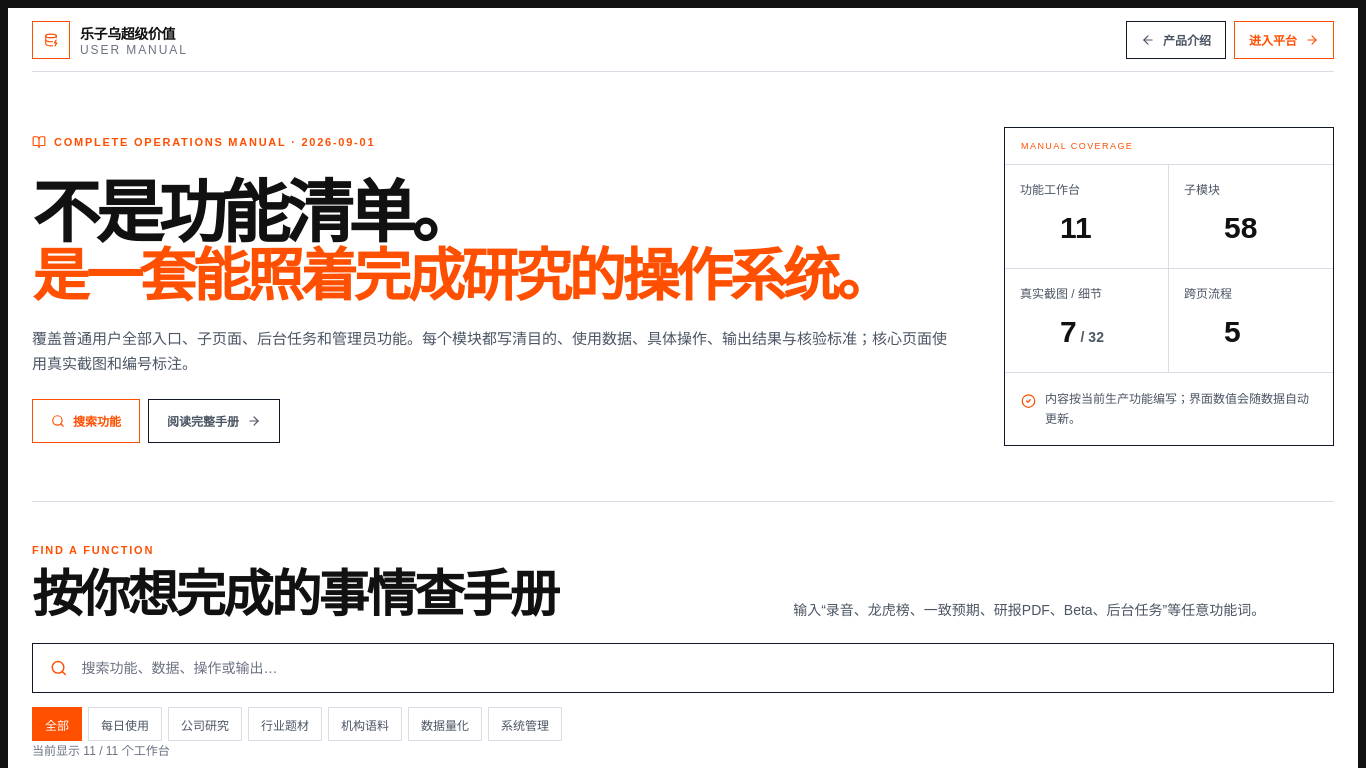
Test: UserGuidePage › filters the complete manual by a detailed function keyword
The width and height of the screenshot is (1366, 768).
Type "用户只能看到自己的任务" into the field named "搜索使用手册".
click(700, 668); type("用户只能看到自己的任务")  # box [68,644,1333,692]
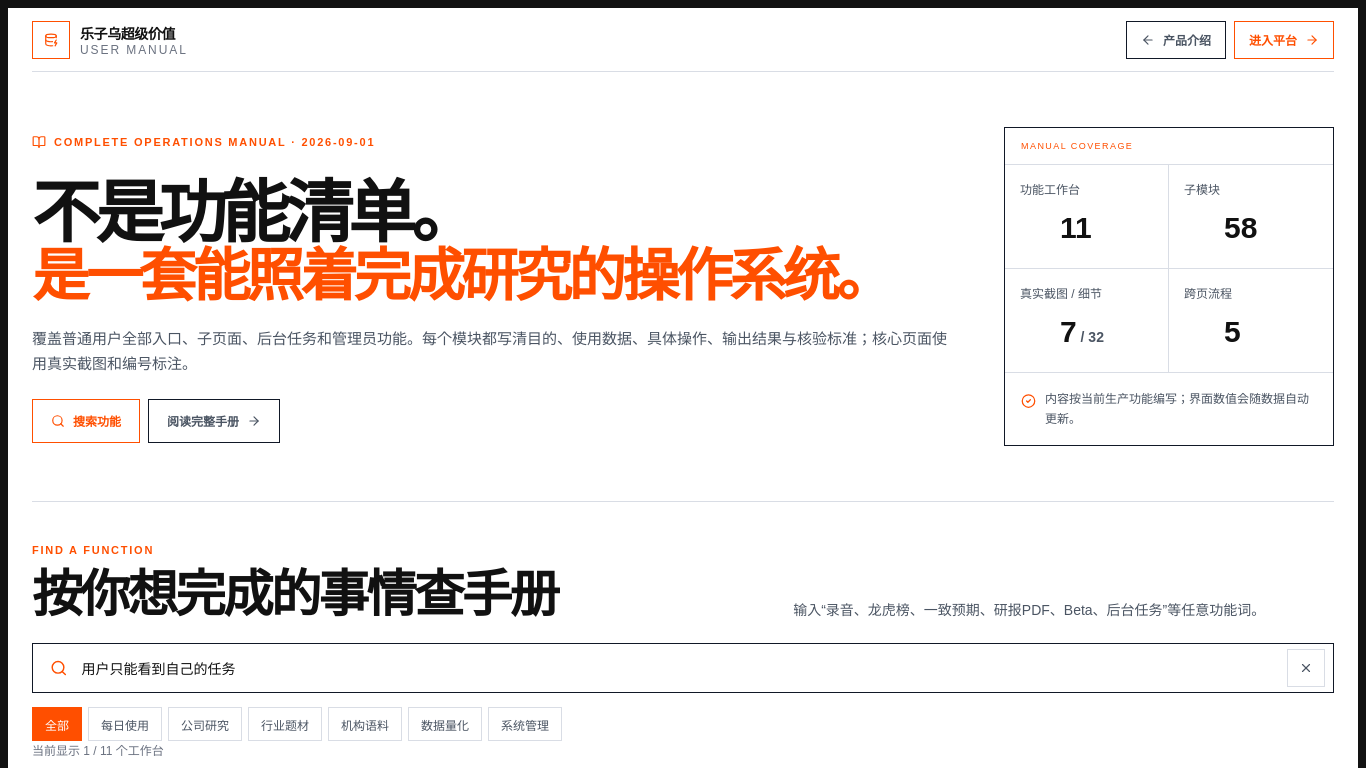
Result: the text "当前显示 1 / 11 个工作台" is shown at [32,744,164,758]
